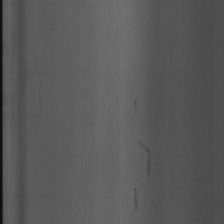water_spot: (126, 94, 157, 212)
